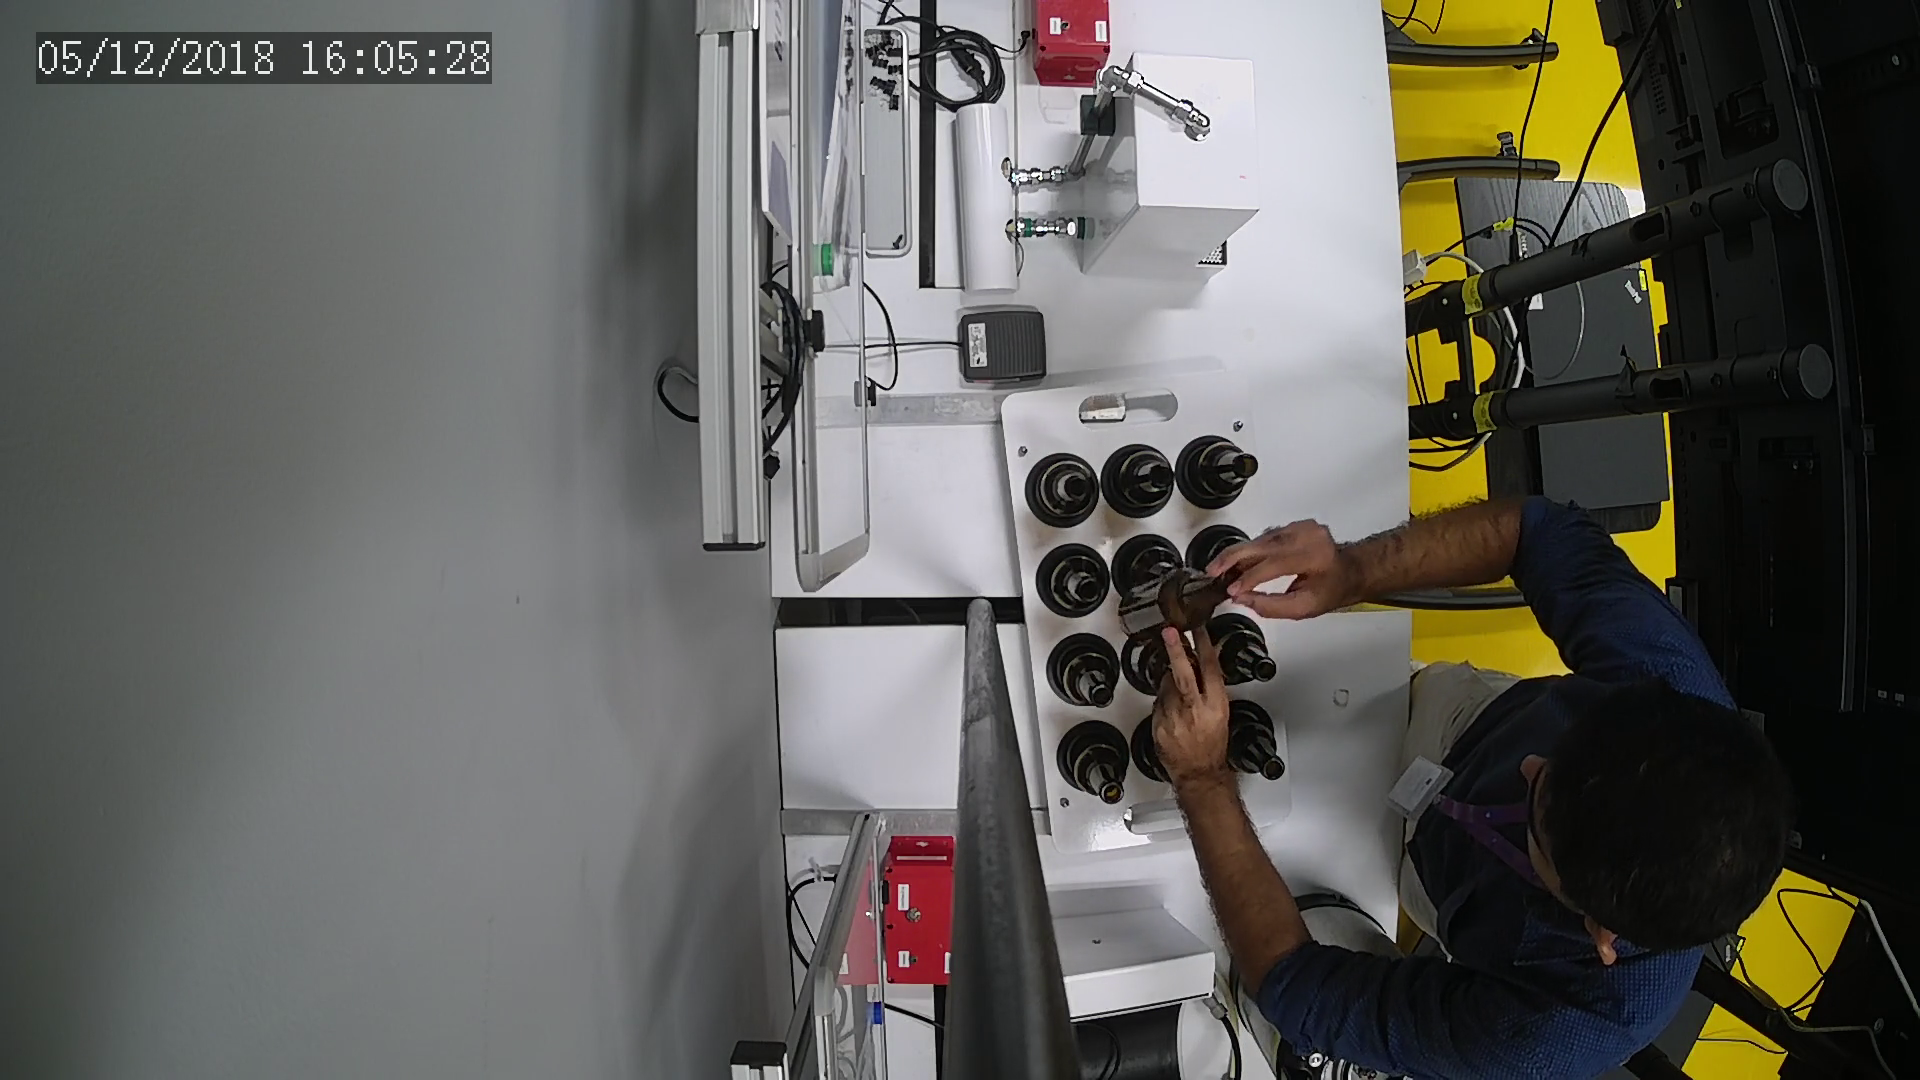filled_bottle: (1051, 716, 1139, 811), (1015, 448, 1106, 531), (1029, 541, 1116, 626), (1172, 433, 1261, 516), (1098, 436, 1179, 524), (1047, 632, 1122, 715), (1229, 695, 1291, 789), (1216, 618, 1284, 694), (1112, 541, 1178, 589), (1182, 526, 1241, 559)
trolley: (993, 357, 1305, 858)
